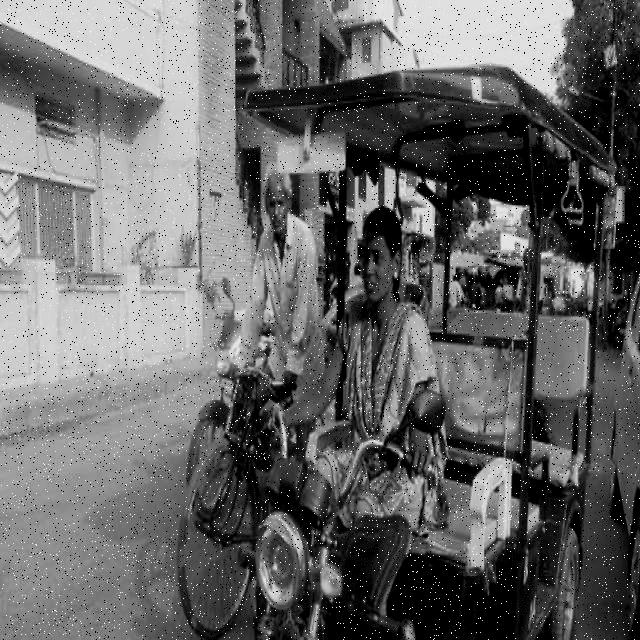Toto: (242, 78, 607, 640)
